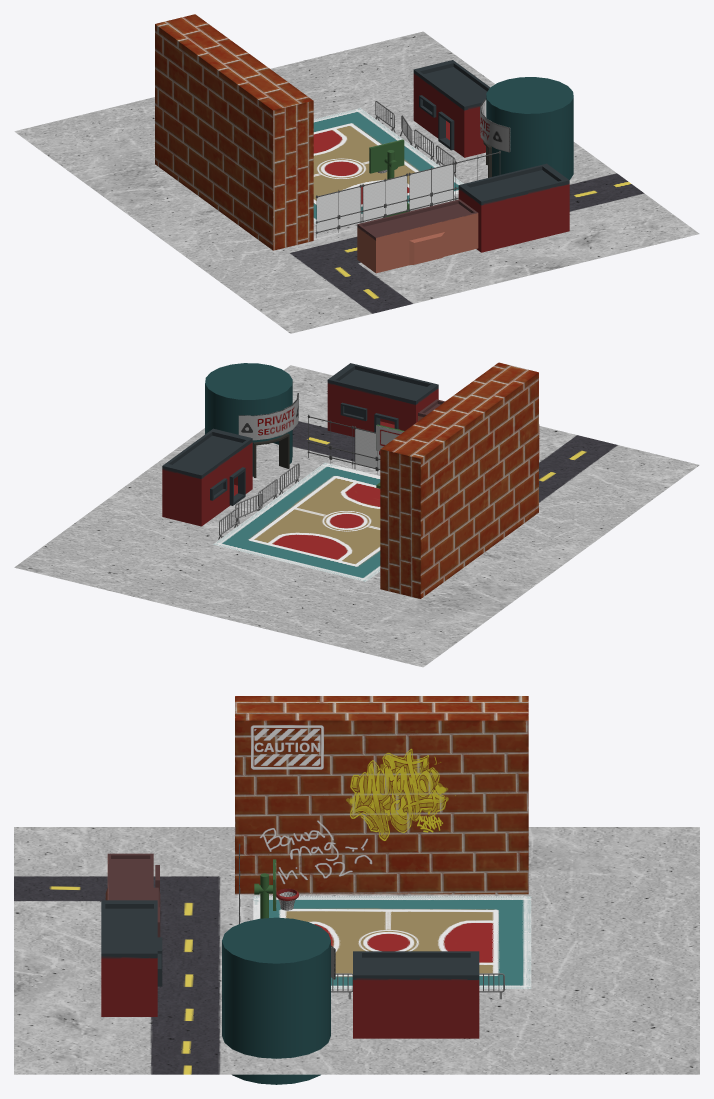
Rendered from Dadsbol Court.fbx.
3 views of the same model, one above another, from view 1: azimuth 30°, elevation 25°; view 2: azimuth 150°, elevation 25°; view 3: azimuth 270°, elevation 25° (orthographic). The views are drawn at different scales.
Visible parts, largest first — view 1: pPlane1, pCube11, pasted__polySurface21, pasted__pCube1, pasted__pCube2, pPlane2, pasted__pCube6, polySurface25, polySurface45, polySurface47, pasted__polySurface22, pCube6; view 2: pPlane1, pCube11, pPlane2, pasted__pCube6, pasted__pCube1, pasted__polySurface21, pasted__polySurface22, polySurface25; view 3: pPlane1, pCube11, pPlane2, pasted__polySurface21, pasted__pCube6, pasted__pCube1, pasted__pCube2.
Part boxes in pixels (<box>): pPlane1: <box>14,31,699,333</box>; pCube11: <box>155,14,313,250</box>; pasted__polySurface21: <box>483,77,573,179</box>; pasted__pCube1: <box>458,163,569,252</box>; pasted__pCube2: <box>357,199,478,273</box>; pPlane2: <box>313,108,463,224</box>; pasted__pCube6: <box>413,60,489,157</box>; polySurface25: <box>409,164,453,209</box>; polySurface45: <box>363,176,406,220</box>; polySurface47: <box>317,187,360,231</box>; pasted__polySurface22: <box>480,99,510,152</box>; pCube6: <box>369,139,404,173</box>; pPlane1: <box>14,365,699,667</box>; pCube11: <box>380,362,538,598</box>; pPlane2: <box>213,462,380,581</box>; pasted__pCube6: <box>162,428,252,526</box>; pasted__pCube1: <box>327,363,438,436</box>; pasted__polySurface21: <box>205,363,292,477</box>; pasted__polySurface22: <box>238,393,298,440</box>; polySurface25: <box>355,429,380,468</box>; pPlane1: <box>14,827,699,1074</box>; pCube11: <box>235,696,528,894</box>; pPlane2: <box>253,896,531,988</box>; pasted__polySurface21: <box>222,917,330,1084</box>; pasted__pCube6: <box>353,951,479,1038</box>; pasted__pCube1: <box>101,900,162,1016</box>; pasted__pCube2: <box>105,853,160,937</box>.
Bounding box in the file's own units: 340 × 128 × 398.
